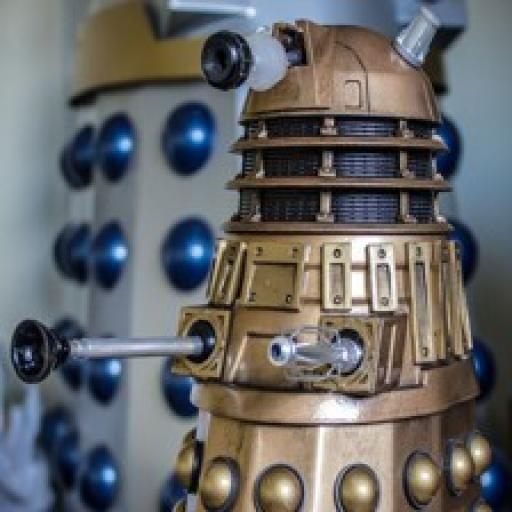dalek: (11, 5, 494, 512)
